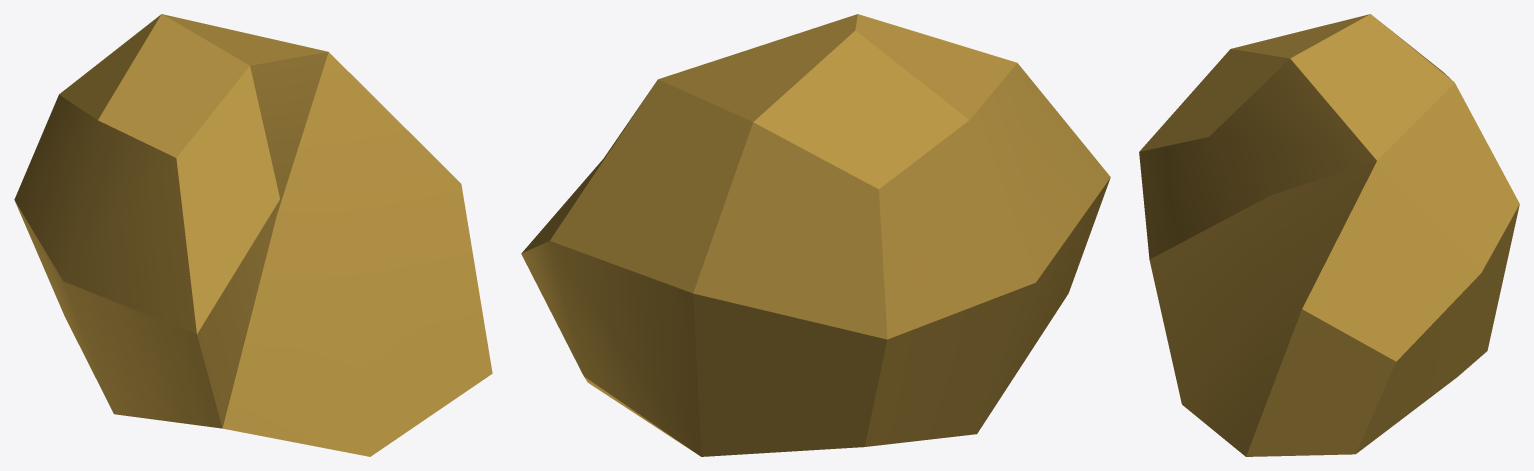
The model's file is rock2.fbx.
The picture shows the model from 3 angles, left to right: view 1: azimuth 30°, elevation 25°; view 2: azimuth 150°, elevation 25°; view 3: azimuth 270°, elevation 25°; orthographic projection. The views are drawn at different scales.
Visible parts, largest first — view 1: rock2; view 2: rock2; view 3: rock2.
Part boxes in pixels (x1=…): rock2: x1=14, y1=14, x2=492, y2=456; rock2: x1=521, y1=14, x2=1110, y2=456; rock2: x1=1139, y1=14, x2=1519, y2=456.
Size of the model in its own units: 1.34 by 1.23 by 1.22.
